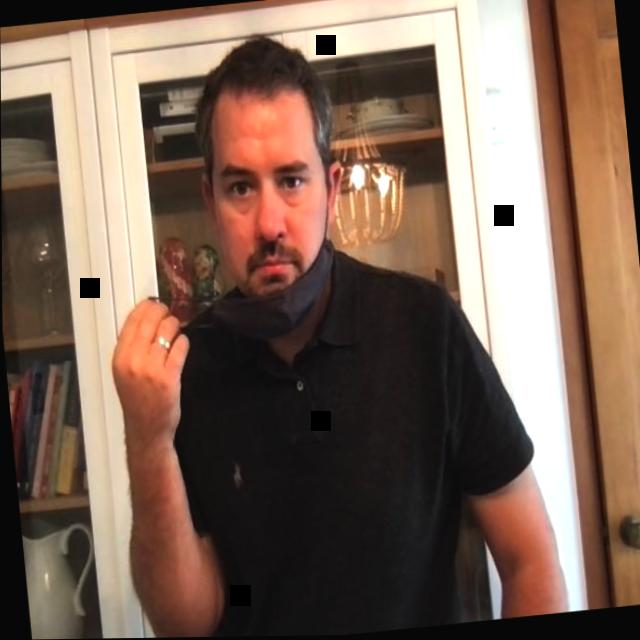NO-Mask: (183, 34, 350, 348)
